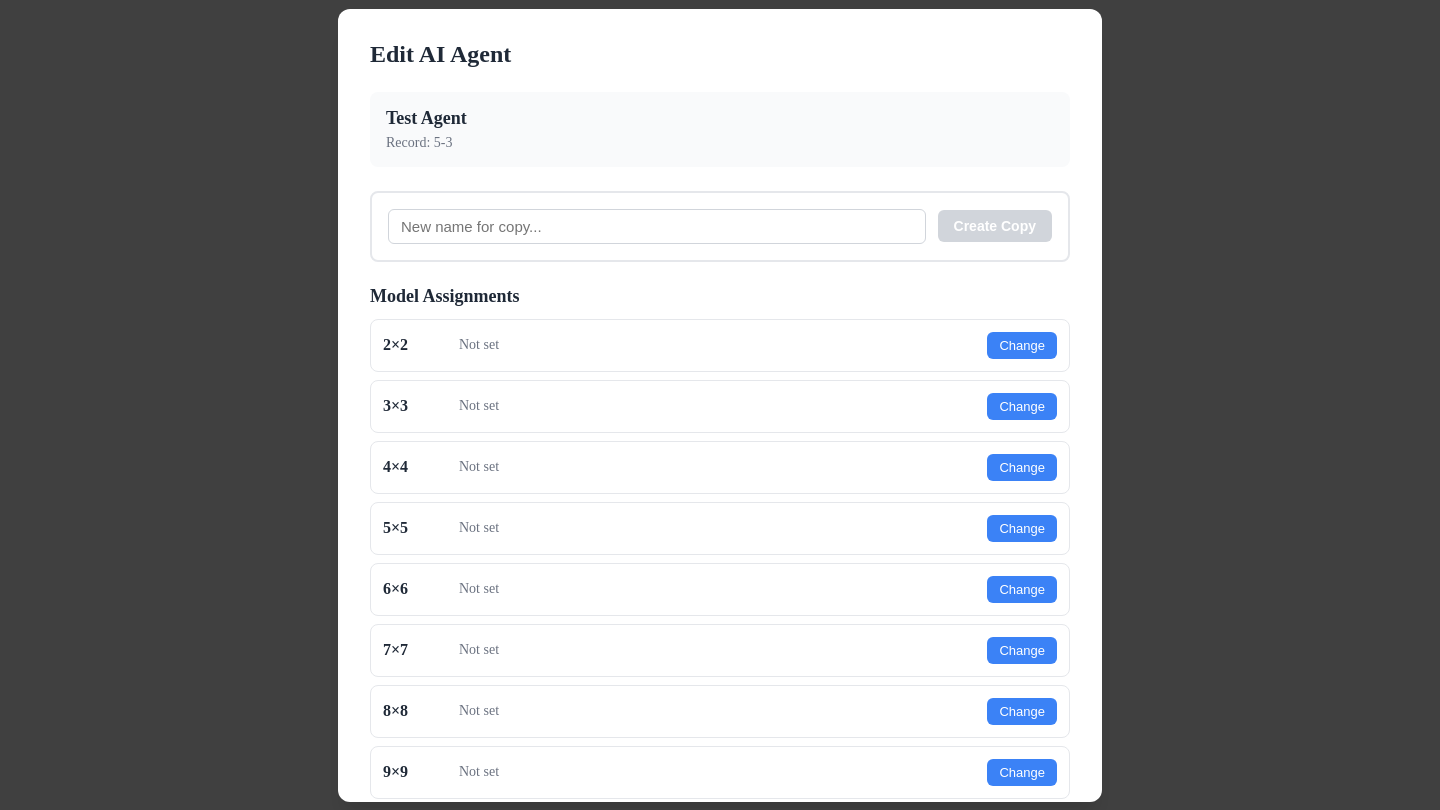
EditAiAgentModal › should select a model and update assignment
Click the button "Change" in the row of "3×3": (1022, 406) top-left (988, 392), bottom-right (1057, 420)
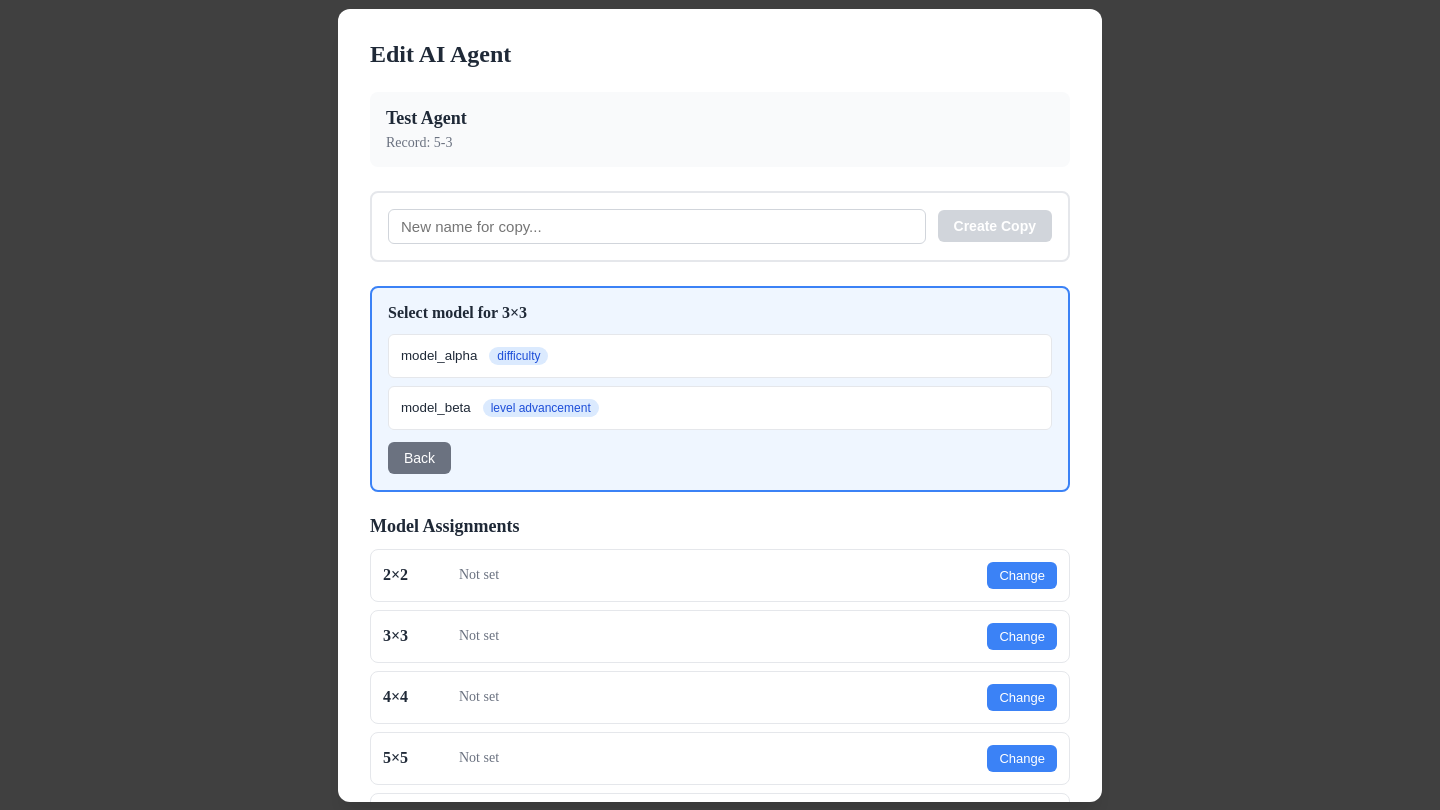
Check: the text "model_alpha" is shown
Click the text "model_alpha": (439, 356) top-left (401, 348), bottom-right (477, 363)
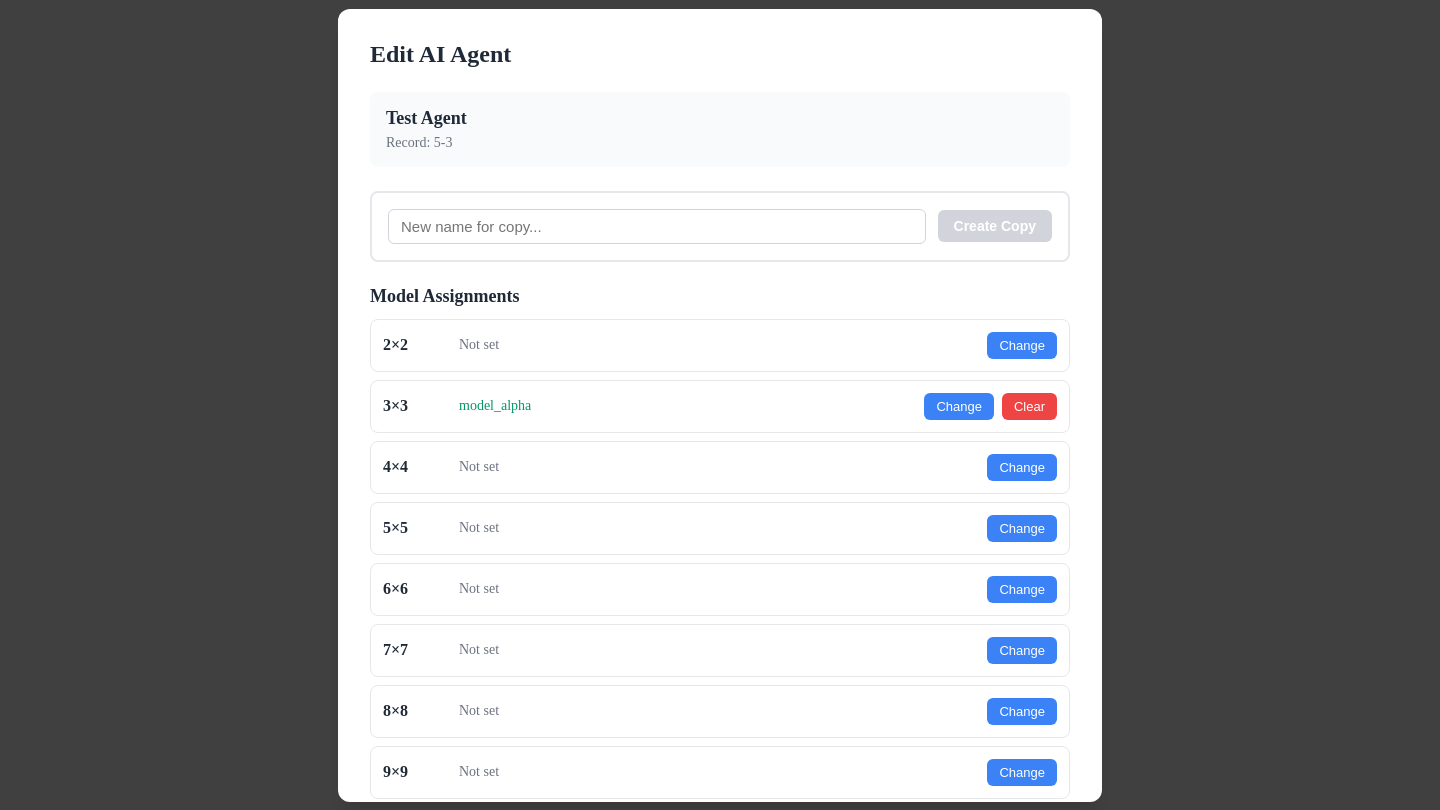
Check: the heading "Select model for 3×3" is gone
Check: the text "model_alpha" is shown, box top-left (459, 398), bottom-right (531, 413)
